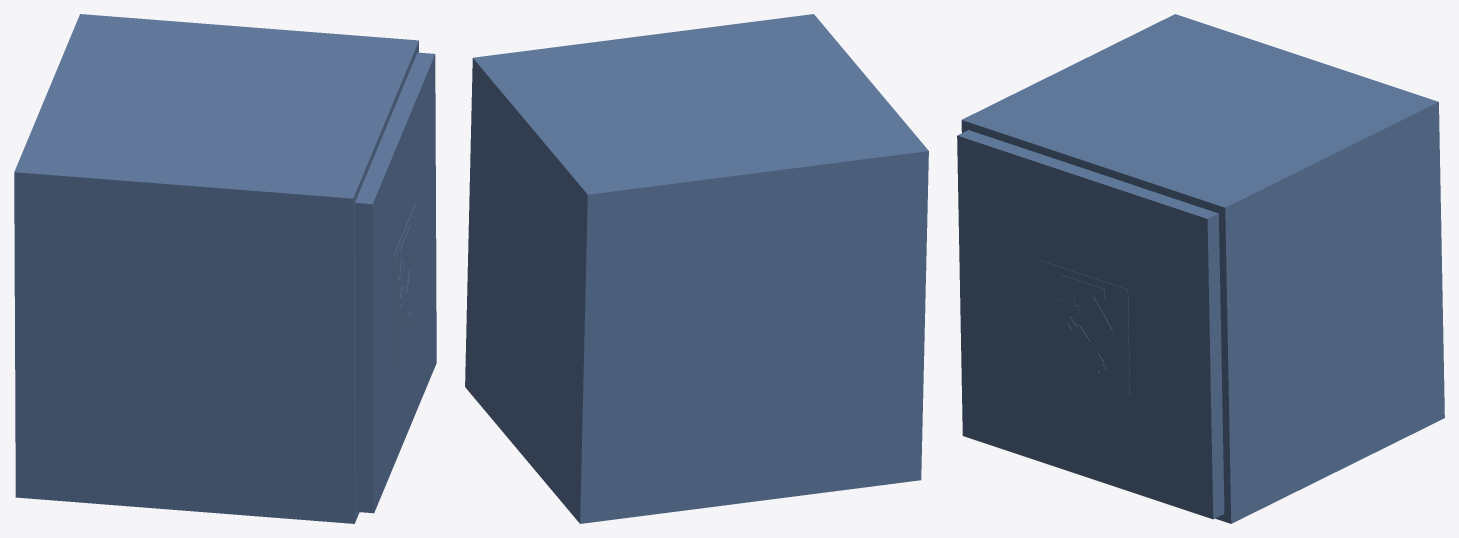
The model's file is tile_295.glb.
3 renders of one model, left to right at view 1: azimuth 30°, elevation 25°; view 2: azimuth 150°, elevation 25°; view 3: azimuth 270°, elevation 25°, orthographic. The views are drawn at different scales.
Bounding box in the file's own units: 0.8446 × 0.6134 × 0.8444.
